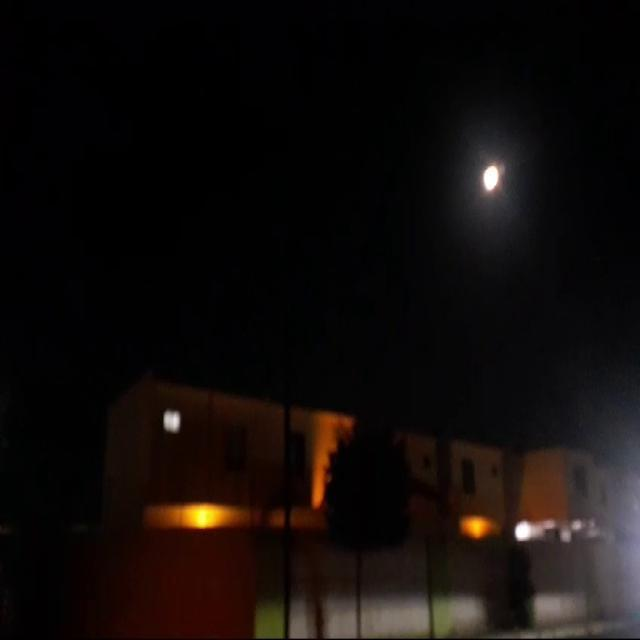moon: (480, 160, 500, 193)
